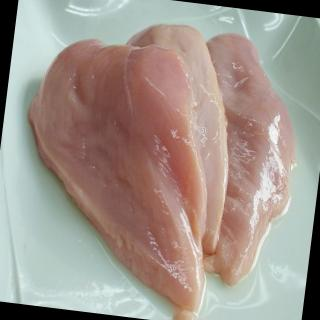Ayam: (4, 3, 314, 320), (4, 27, 238, 320), (99, 15, 252, 261), (178, 29, 315, 295)
